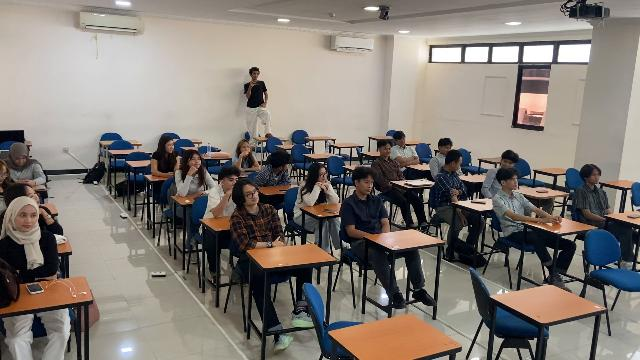senang: (16, 209, 37, 231), (245, 187, 260, 204), (362, 178, 372, 195), (509, 176, 519, 190), (190, 156, 201, 168), (591, 171, 600, 184), (396, 135, 406, 146), (502, 159, 513, 169), (319, 169, 327, 182), (382, 146, 391, 157), (241, 143, 250, 152), (166, 143, 174, 153), (444, 145, 450, 155)
